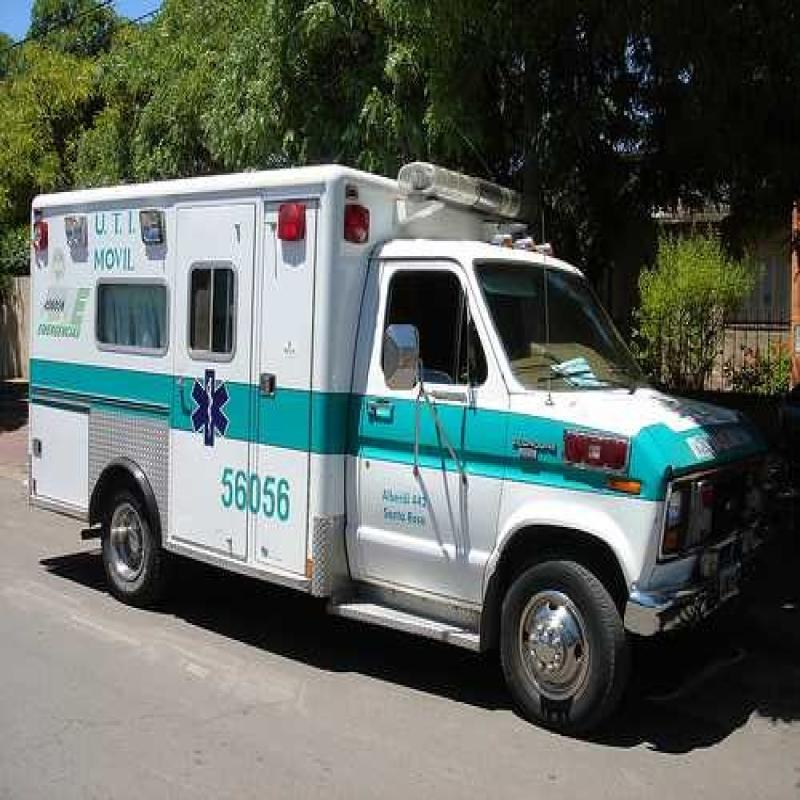AmbulanceSiren: (392, 139, 533, 235)
